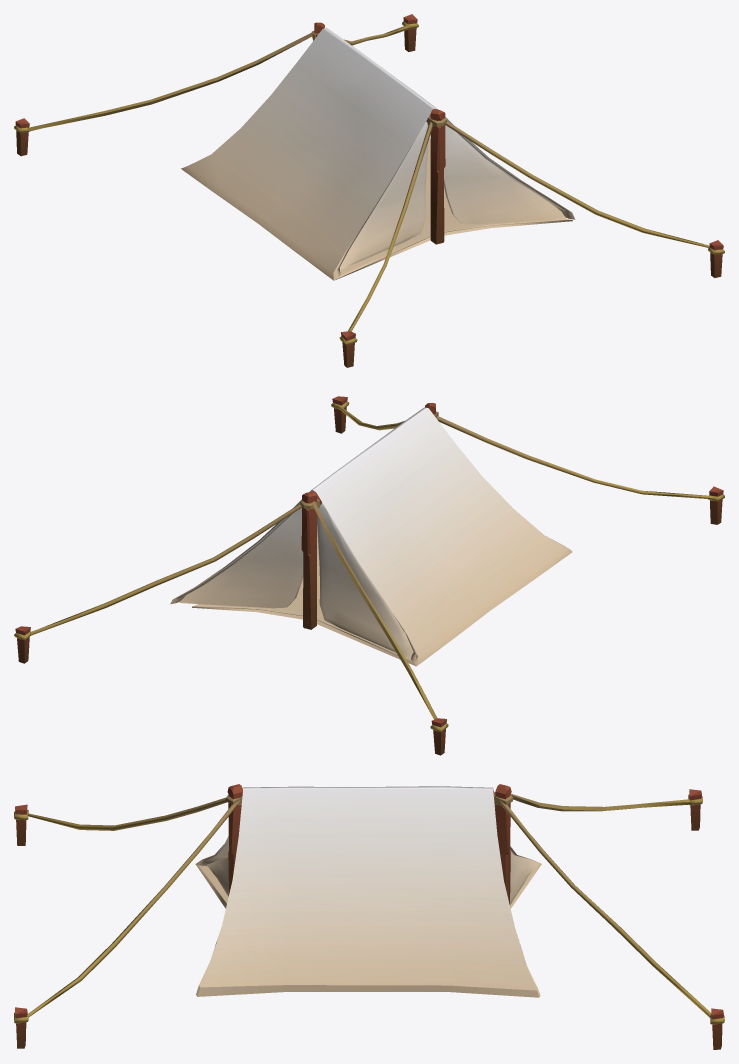
The picture shows the model from 3 angles, top to bottom: view 1: azimuth 30°, elevation 25°; view 2: azimuth 150°, elevation 25°; view 3: azimuth 270°, elevation 25°; orthographic projection. The views are drawn at different scales.
Parts seen in each view (by area): view 1: Tent1; view 2: Tent1; view 3: Tent1.
Boxes of the visible parts, bbox=[...] form: Tent1: bbox=[14, 14, 724, 367]; Tent1: bbox=[14, 396, 724, 755]; Tent1: bbox=[14, 784, 724, 1049].
Bounding box in the file's own units: 180 × 59.39 × 240.
1 material, 1 textured.
